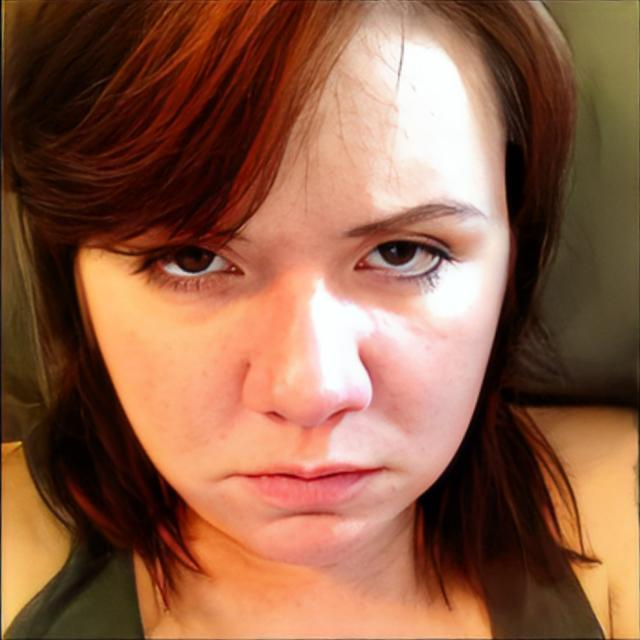anger: (86, 34, 506, 570)
